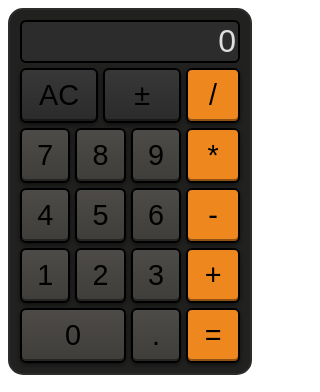
Test: Dot button › Dot button adds a dot to the number => 1.
The width and height of the screenshot is (320, 392).
Click the button with test id "Button-1".
click(45, 276)  # box [20,248,70,303]
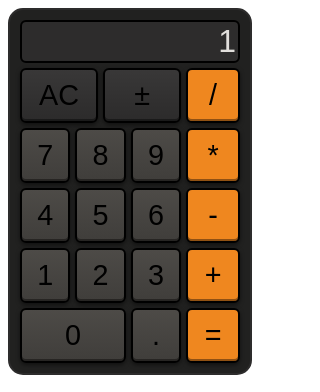
Click the button with test id "Button-.".
click(156, 336)  # box [131,308,181,363]
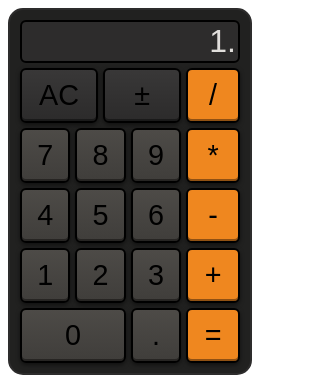
expect the field with test id "result-field" holds "1.": met, box [20,20,240,63]
